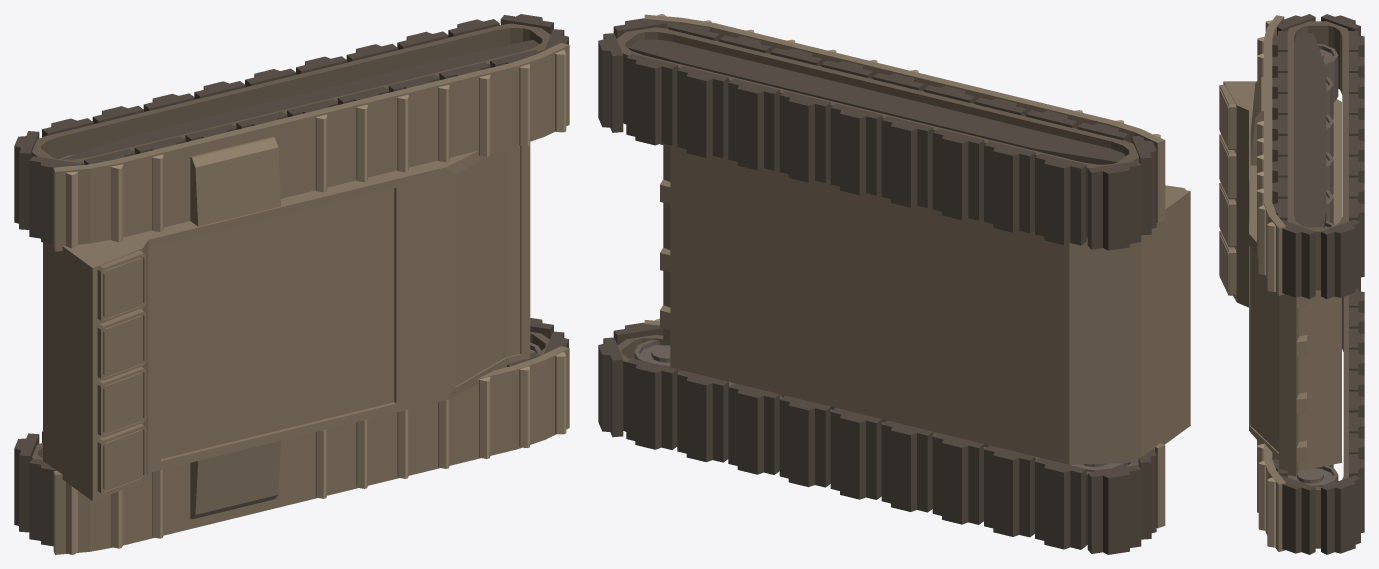
File: Tank_2_Base.glb
3 renders of one model, left to right at view 1: azimuth 30°, elevation 25°; view 2: azimuth 150°, elevation 25°; view 3: azimuth 270°, elevation 25°, orthographic. The views are drawn at different scales.
Visible parts, largest first — view 1: Tank_body_Cube.009, TrackMesh.L_Cube.051, TrackMesh.R_Cube.000; view 2: Tank_body_Cube.009, TrackMesh.L_Cube.051, TrackMesh.R_Cube.000; view 3: Tank_body_Cube.009, TrackMesh.L_Cube.051, TrackMesh.R_Cube.000.
Boxes of the visible parts, box(x1,y1,x2,y2) form: Tank_body_Cube.009: box(31, 23, 569, 554); TrackMesh.L_Cube.051: box(14, 14, 568, 243); TrackMesh.R_Cube.000: box(14, 318, 568, 546); Tank_body_Cube.009: box(617, 14, 1190, 544); TrackMesh.L_Cube.051: box(598, 18, 1156, 250); TrackMesh.R_Cube.000: box(598, 322, 1156, 554); Tank_body_Cube.009: box(1219, 15, 1349, 551); TrackMesh.L_Cube.051: box(1272, 14, 1364, 298); TrackMesh.R_Cube.000: box(1272, 287, 1364, 554).
Bounding box in the file's own units: 14.75 × 10.09 × 4.11.
